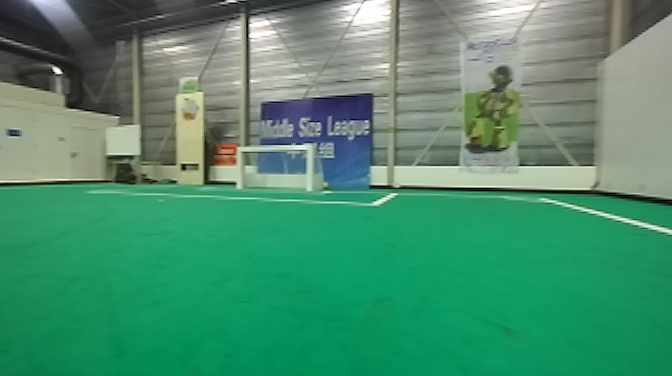ball: (388, 180, 402, 192)
goalpost: (302, 138, 316, 194), (231, 144, 245, 188)
